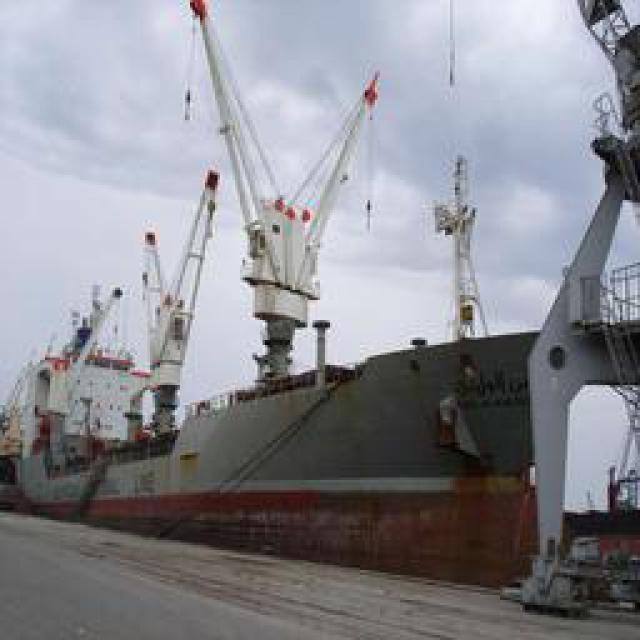Ship: (15, 37, 415, 515)
